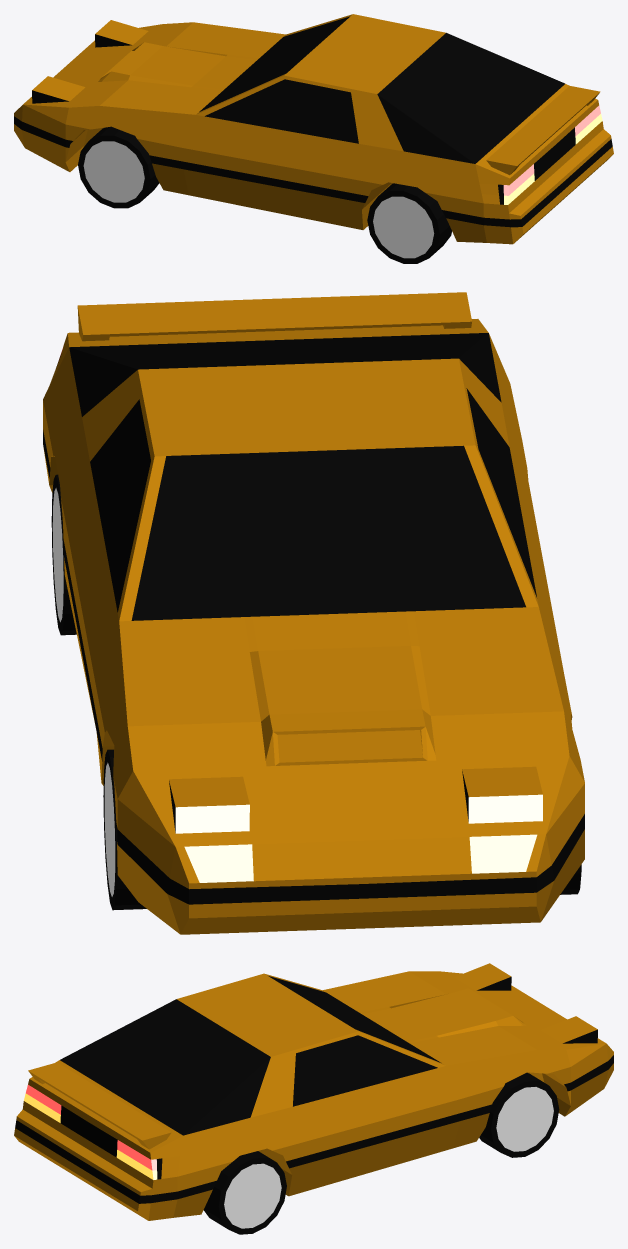
3 views of the same model, one above another, from view 1: azimuth 30°, elevation 25°; view 2: azimuth 150°, elevation 25°; view 3: azimuth 270°, elevation 25° (orthographic). The views are drawn at different scales.
Parts seen in each view (by area): view 1: rx7.001; view 2: rx7.001; view 3: rx7.001.
Part boxes in pixels (x1,y1,x2,y2): rx7.001: (14, 14, 613, 263); rx7.001: (43, 292, 584, 934); rx7.001: (14, 963, 613, 1234).
Size of the model in its own units: 4.25 by 1.45 by 5.09.
